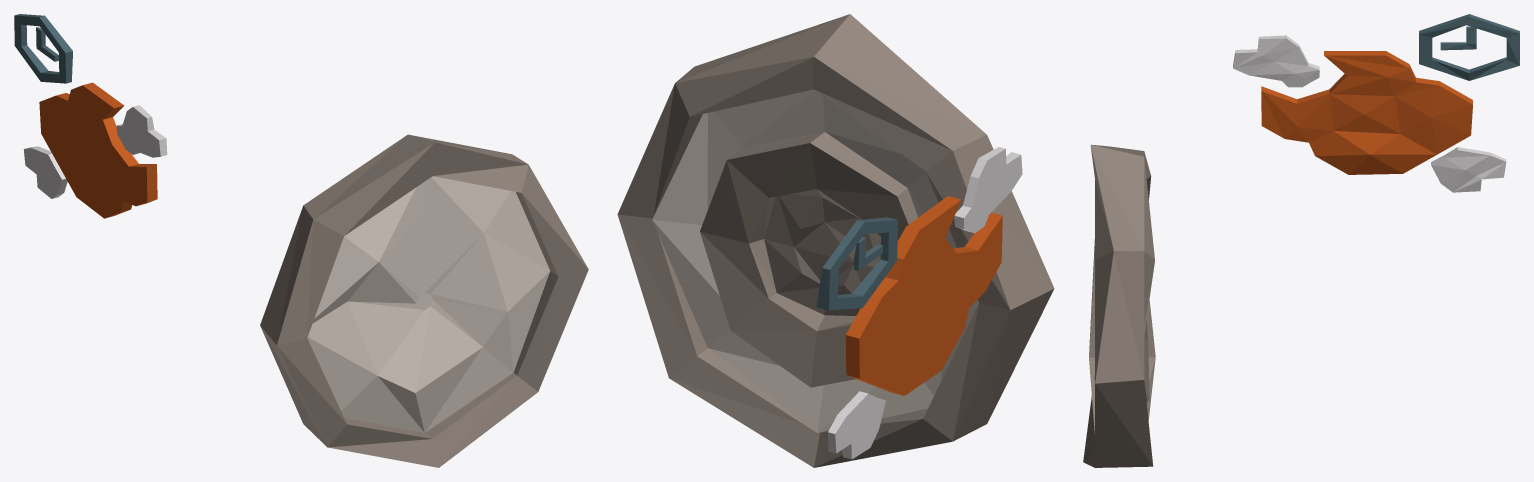
Rendered from item_fall_sp_time.FBX.
3 views of the same model, side by side, from view 1: azimuth 30°, elevation 25°; view 2: azimuth 150°, elevation 25°; view 3: azimuth 270°, elevation 25° (orthographic). The views are drawn at different scales.
Visible parts, largest first — view 1: coin, sp_time; view 2: coin, sp_time; view 3: sp_time, coin.
Part boxes in pixels (box(x1,y1,x2,y2)): coin: box(260, 134, 588, 467); sp_time: box(14, 14, 167, 218); coin: box(617, 14, 1054, 467); sp_time: box(816, 147, 1022, 459); sp_time: box(1233, 14, 1519, 192); coin: box(1083, 144, 1155, 467).
Bounding box in the file's own units: 35.79 × 33.97 × 38.31.
1 material, 1 textured.
